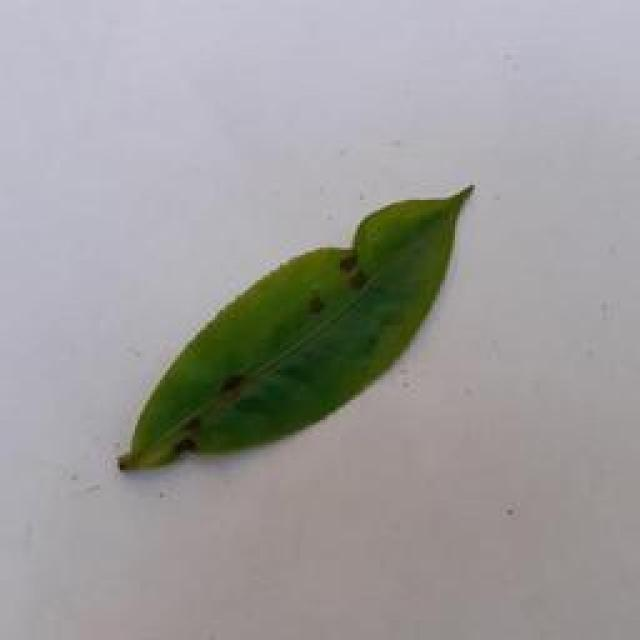Helopeltis: (109, 182, 504, 483)
